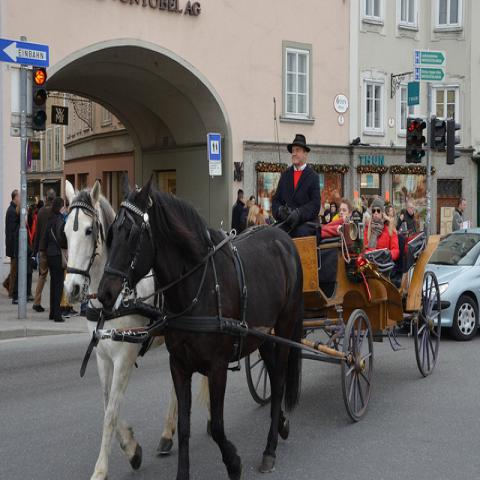car: (425, 223, 479, 337)
